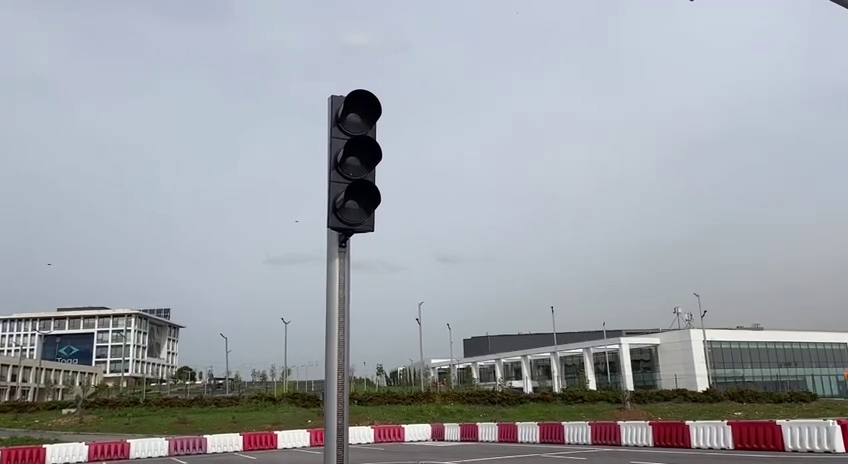trafficLight: (320, 87, 386, 237)
